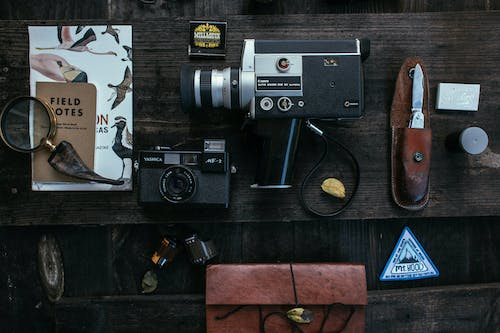knife: (408, 62, 426, 129)
